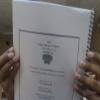notebook: (11, 0, 95, 99)
